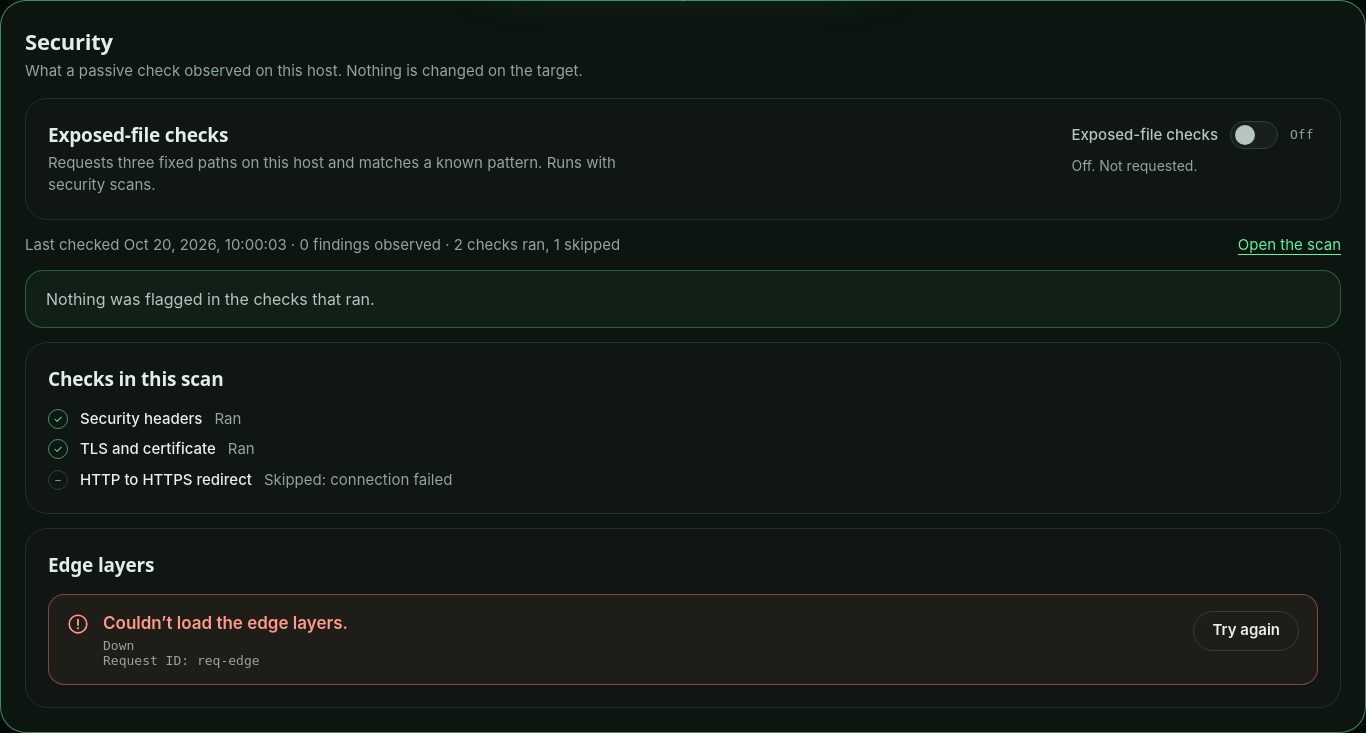
Edge layers card › keeps the security result when only the edge request fails, and retries on its own
(page scrolled)
Expected: the text "Couldn’t load the edge layers." is shown, [103,611,348,636]
Expected: the text "Request ID: req-edge" is shown, [103,653,260,668]
Click the button "Try again": coordinates (1246, 631) [1193,611,1299,651]
(page scrolled)
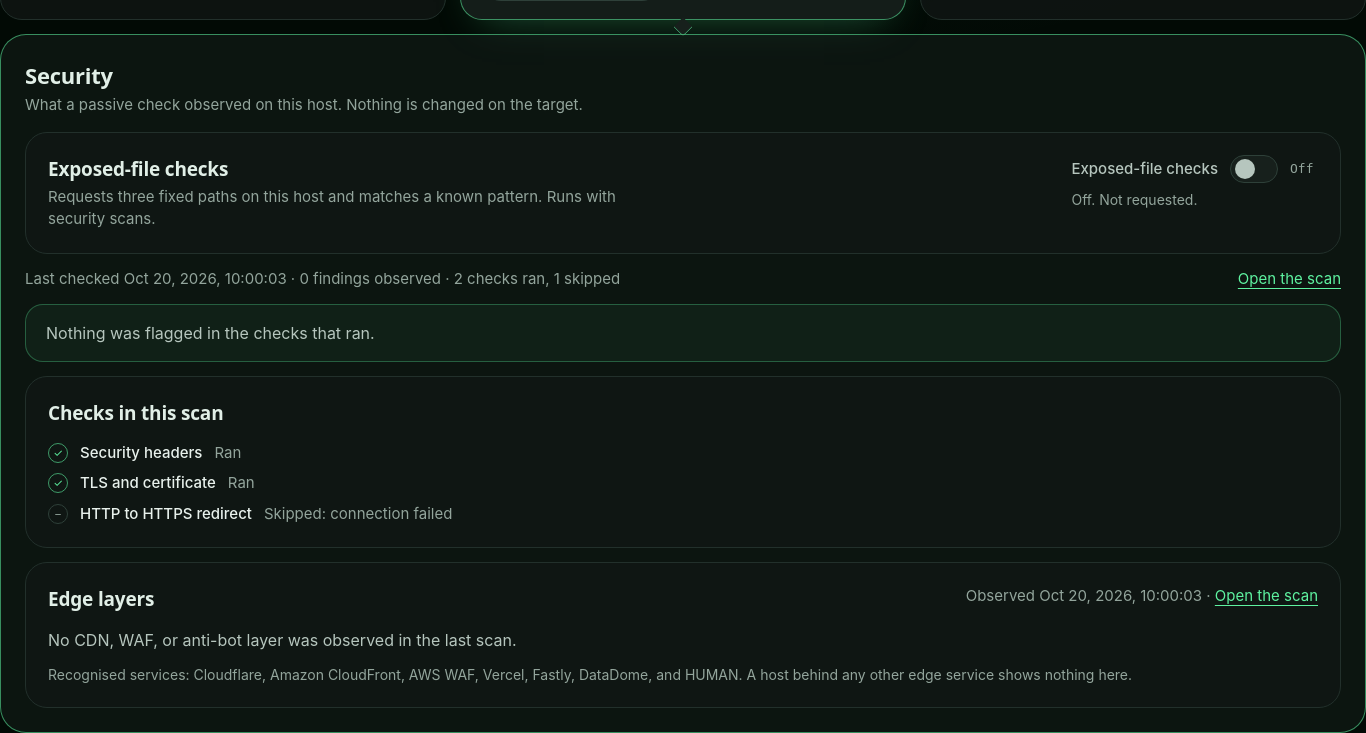
Result: the text "No CDN, WAF, or anti-bot layer was observed in the last scan." is shown at [48,630,517,650]
